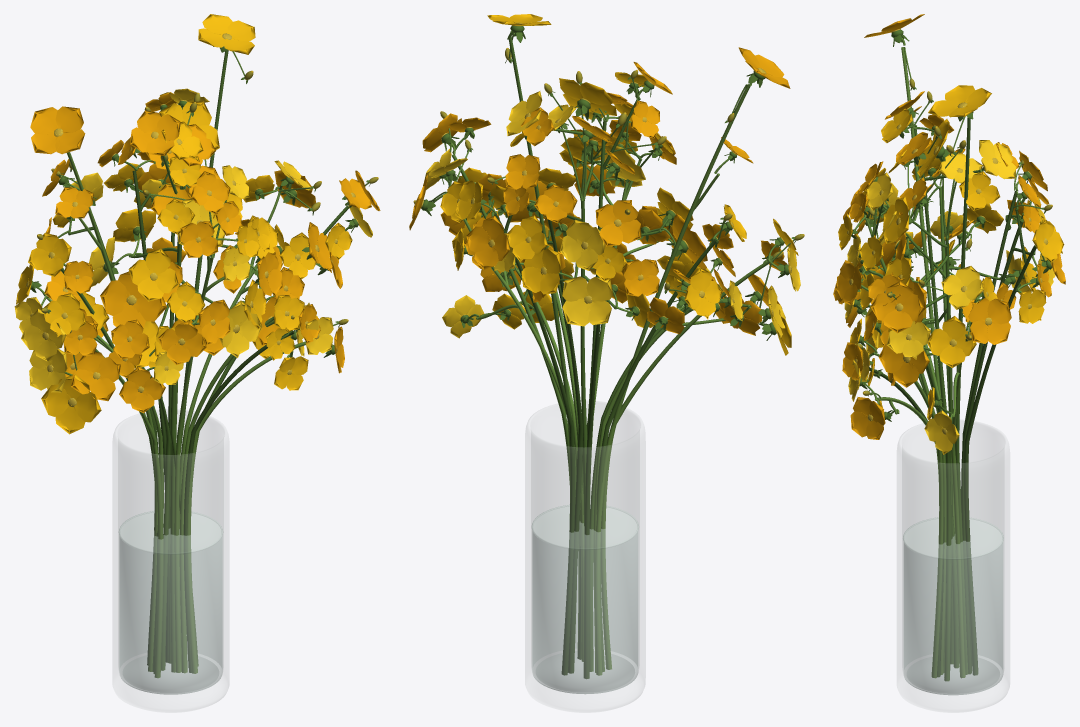
The model's file is rapeseed_vase_wireframe.obj.
The picture shows the model from 3 angles, left to right: view 1: azimuth 30°, elevation 25°; view 2: azimuth 150°, elevation 25°; view 3: azimuth 270°, elevation 25°; orthographic projection. The views are drawn at different scales.
Visible parts, largest first — view 1: Vase_Glass, Water_Volume, Water_Surface, Flower_E_tall_left_02_01, Flower_A_core_03_01, Flower_B_left_low_01_01, Stem_E_tall_left_trunk, Stem_N_center_fill_trunk, Flower_A_core_03_02, Flower_D_upper_mid_01_01, Flower_F_tall_right_01_01, Flower_B_left_low_01_02 (+52 smaller); view 2: Vase_Glass, Water_Volume, Water_Surface, Stem_E_tall_left_trunk, Stem_I_back_trunk, Stem_G_far_left_trunk, Flower_A_core_04_01, Stem_Q_back_fill_trunk, Stem_J_left_back_trunk, Flower_J_left_back_02_01, Flower_J_left_back_02_02, Flower_I_back_03_02 (+35 smaller); view 3: Vase_Glass, Water_Volume, Water_Surface, Stem_I_back_trunk, Flower_H_far_right_02_01, Stem_F_tall_right_trunk, Flower_C_right_mid_03_01, Flower_C_right_mid_05_01, Stem_Q_back_fill_trunk, Stem_C_right_mid_trunk, Stem_D_upper_mid_trunk, Stem_K_low_right_trunk (+39 smaller).
Boxes of the visible parts, bbox=[...] form: Vase_Glass: bbox=[112, 409, 229, 712]; Water_Volume: bbox=[119, 536, 222, 694]; Water_Surface: bbox=[120, 511, 221, 553]; Flower_E_tall_left_02_01: bbox=[30, 106, 85, 154]; Flower_A_core_03_01: bbox=[100, 271, 166, 327]; Flower_B_left_low_01_01: bbox=[41, 374, 101, 434]; Stem_E_tall_left_trunk: bbox=[67, 152, 163, 677]; Stem_N_center_fill_trunk: bbox=[174, 257, 213, 672]; Flower_A_core_03_02: bbox=[128, 248, 178, 301]; Flower_D_upper_mid_01_01: bbox=[130, 110, 180, 155]; Flower_F_tall_right_01_01: bbox=[198, 14, 255, 54]; Flower_B_left_low_01_02: bbox=[70, 352, 120, 401]; Vase_Glass: bbox=[525, 400, 645, 712]; Water_Volume: bbox=[532, 531, 638, 694]; Water_Surface: bbox=[532, 505, 637, 548]; Stem_E_tall_left_trunk: bbox=[600, 84, 750, 669]; Stem_I_back_trunk: bbox=[494, 213, 575, 675]; Stem_G_far_left_trunk: bbox=[594, 260, 769, 675]; Flower_A_core_04_01: bbox=[562, 276, 613, 326]; Stem_Q_back_fill_trunk: bbox=[547, 219, 582, 673]; Stem_J_left_back_trunk: bbox=[583, 324, 600, 678]; Flower_J_left_back_02_01: bbox=[595, 200, 641, 246]; Flower_J_left_back_02_02: bbox=[560, 219, 604, 270]; Flower_I_back_03_02: bbox=[466, 215, 509, 269]; Vase_Glass: bbox=[897, 419, 1009, 712]; Water_Volume: bbox=[903, 542, 1003, 695]; Water_Surface: bbox=[904, 518, 1002, 558]; Stem_I_back_trunk: bbox=[963, 245, 1036, 675]; Flower_H_far_right_02_01: bbox=[870, 281, 924, 333]; Stem_F_tall_right_trunk: bbox=[955, 117, 970, 674]; Flower_C_right_mid_03_01: bbox=[968, 298, 1011, 344]; Flower_C_right_mid_05_01: bbox=[927, 316, 976, 367]; Stem_Q_back_fill_trunk: bbox=[961, 215, 1023, 674]; Stem_C_right_mid_trunk: bbox=[951, 363, 965, 678]; Stem_D_upper_mid_trunk: bbox=[920, 165, 951, 681]; Stem_K_low_right_trunk: bbox=[877, 397, 943, 678].
Bounding box in the file's own units: 0.2512 × 0.4389 × 0.1473.
